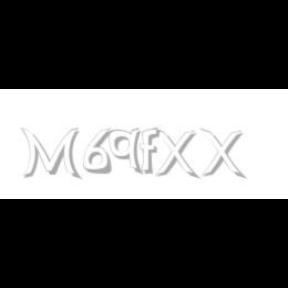6: (83, 128, 112, 176)
M: (20, 128, 79, 180)
X: (153, 128, 197, 180), (200, 128, 244, 180)
f: (140, 128, 164, 174)
q: (108, 128, 144, 176)
